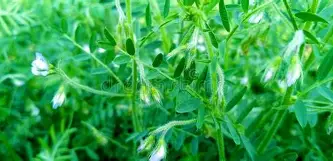crops: (2, 0, 329, 159), (0, 0, 57, 79), (0, 77, 46, 156), (77, 99, 130, 158), (32, 122, 79, 160)
